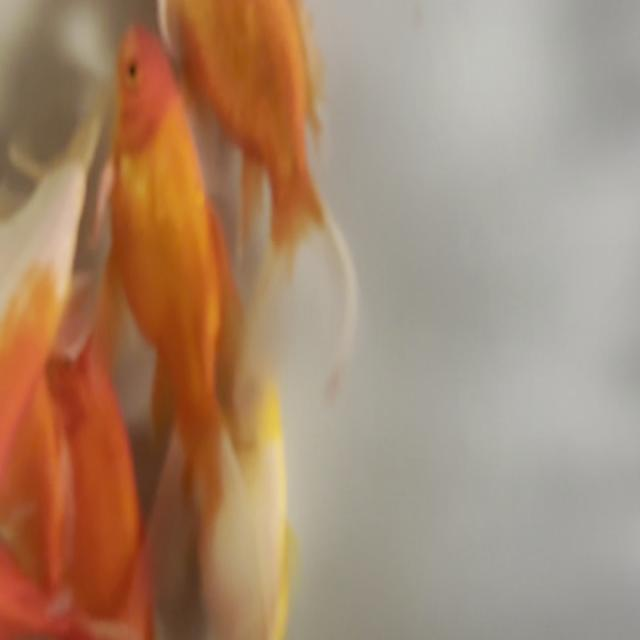fish: (95, 20, 244, 543), (155, 0, 350, 383), (21, 306, 159, 640), (187, 358, 302, 640), (0, 240, 85, 558), (0, 524, 147, 640)
